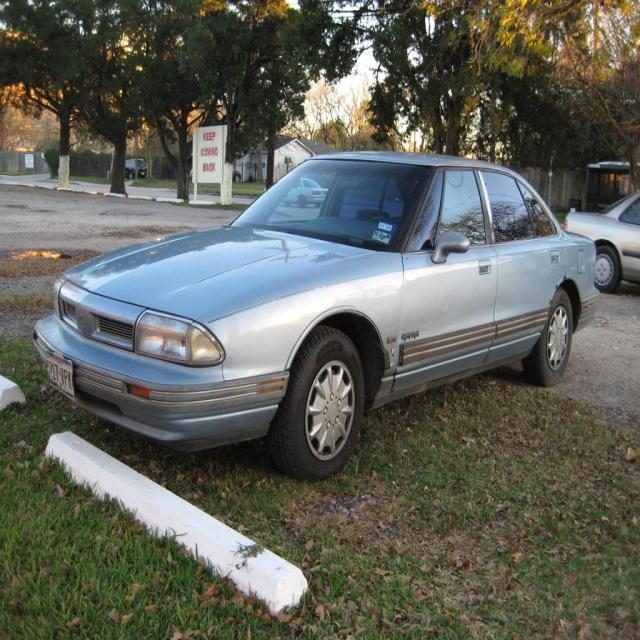car: (37, 150, 594, 479)
